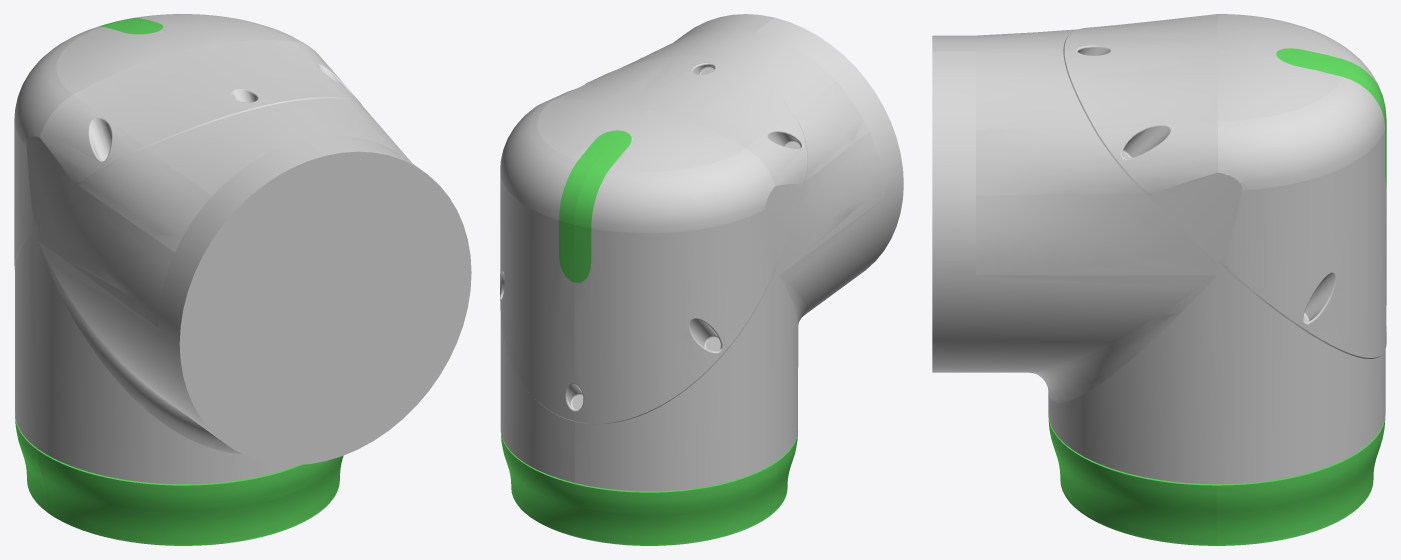
The picture shows the model from 3 angles, left to right: view 1: azimuth 30°, elevation 25°; view 2: azimuth 150°, elevation 25°; view 3: azimuth 270°, elevation 25°; orthographic projection. The views are drawn at different scales.
Parts seen in each view (by area): view 1: Mesh_0; view 2: Mesh_0; view 3: Mesh_0.
Part boxes in pixels (x1,y1,x2,y2): Mesh_0: (14,14,471,545); Mesh_0: (500,14,903,545); Mesh_0: (932,14,1386,545).
Size of the model in its own units: 0.112 by 0.1509 by 0.1574.
